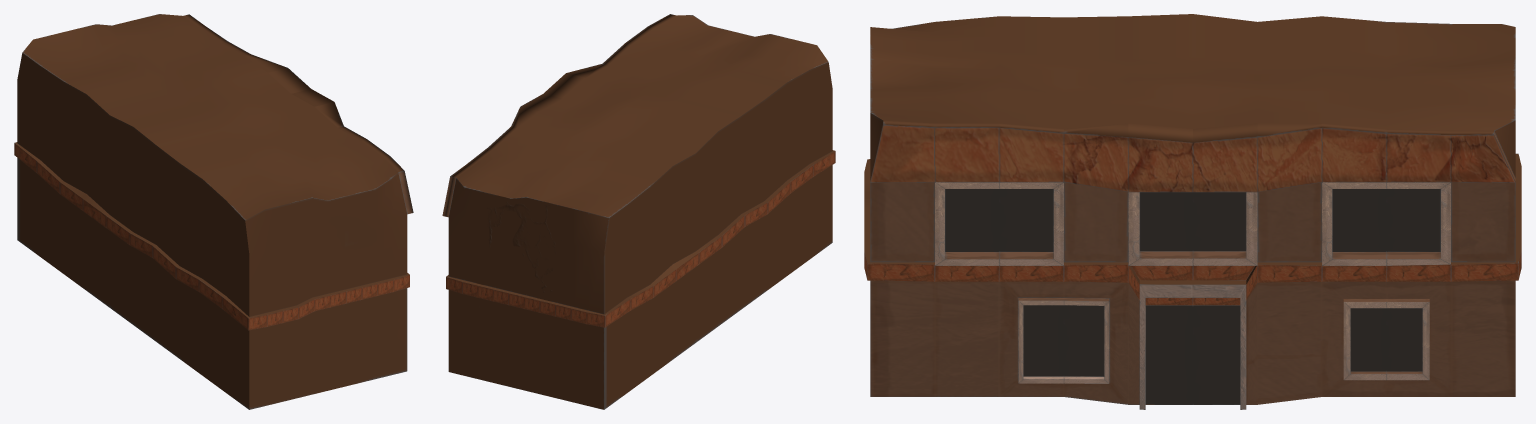
File: Building06.fbx
The picture shows the model from 3 angles, left to right: view 1: azimuth 30°, elevation 25°; view 2: azimuth 150°, elevation 25°; view 3: azimuth 270°, elevation 25°; orthographic projection. The views are drawn at different scales.
Visible parts, largest first — view 1: theFourBuildings:polySurface125; view 2: theFourBuildings:polySurface125; view 3: theFourBuildings:polySurface125.
Part boxes in pixels (x1=…): theFourBuildings:polySurface125: x1=14, y1=14, x2=413, y2=409; theFourBuildings:polySurface125: x1=442, y1=14, x2=835, y2=409; theFourBuildings:polySurface125: x1=864, y1=14, x2=1521, y2=409.
Bounding box in the file's own units: 105 × 112 × 235.
